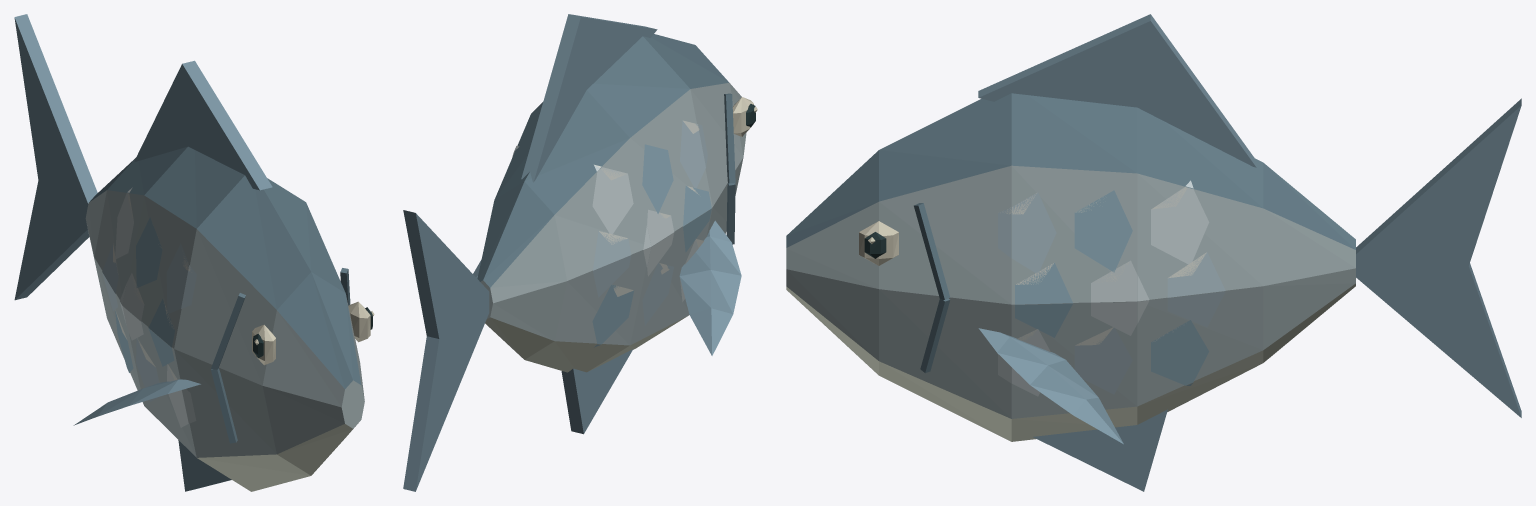
Rendered from fish_mirrorscale.glb.
3 views of the same model, side by side, from view 1: azimuth 30°, elevation 25°; view 2: azimuth 150°, elevation 25°; view 3: azimuth 270°, elevation 25° (orthographic). The views are drawn at different scales.
Parts seen in each view (by area): view 1: fish; view 2: fish; view 3: fish.
Part boxes in pixels (x1,y1,x2,y2): fish: [14, 14, 374, 491]; fish: [403, 14, 757, 491]; fish: [786, 14, 1521, 491].
Bounding box in the file's own units: 0.2805 × 0.4471 × 0.6327.
